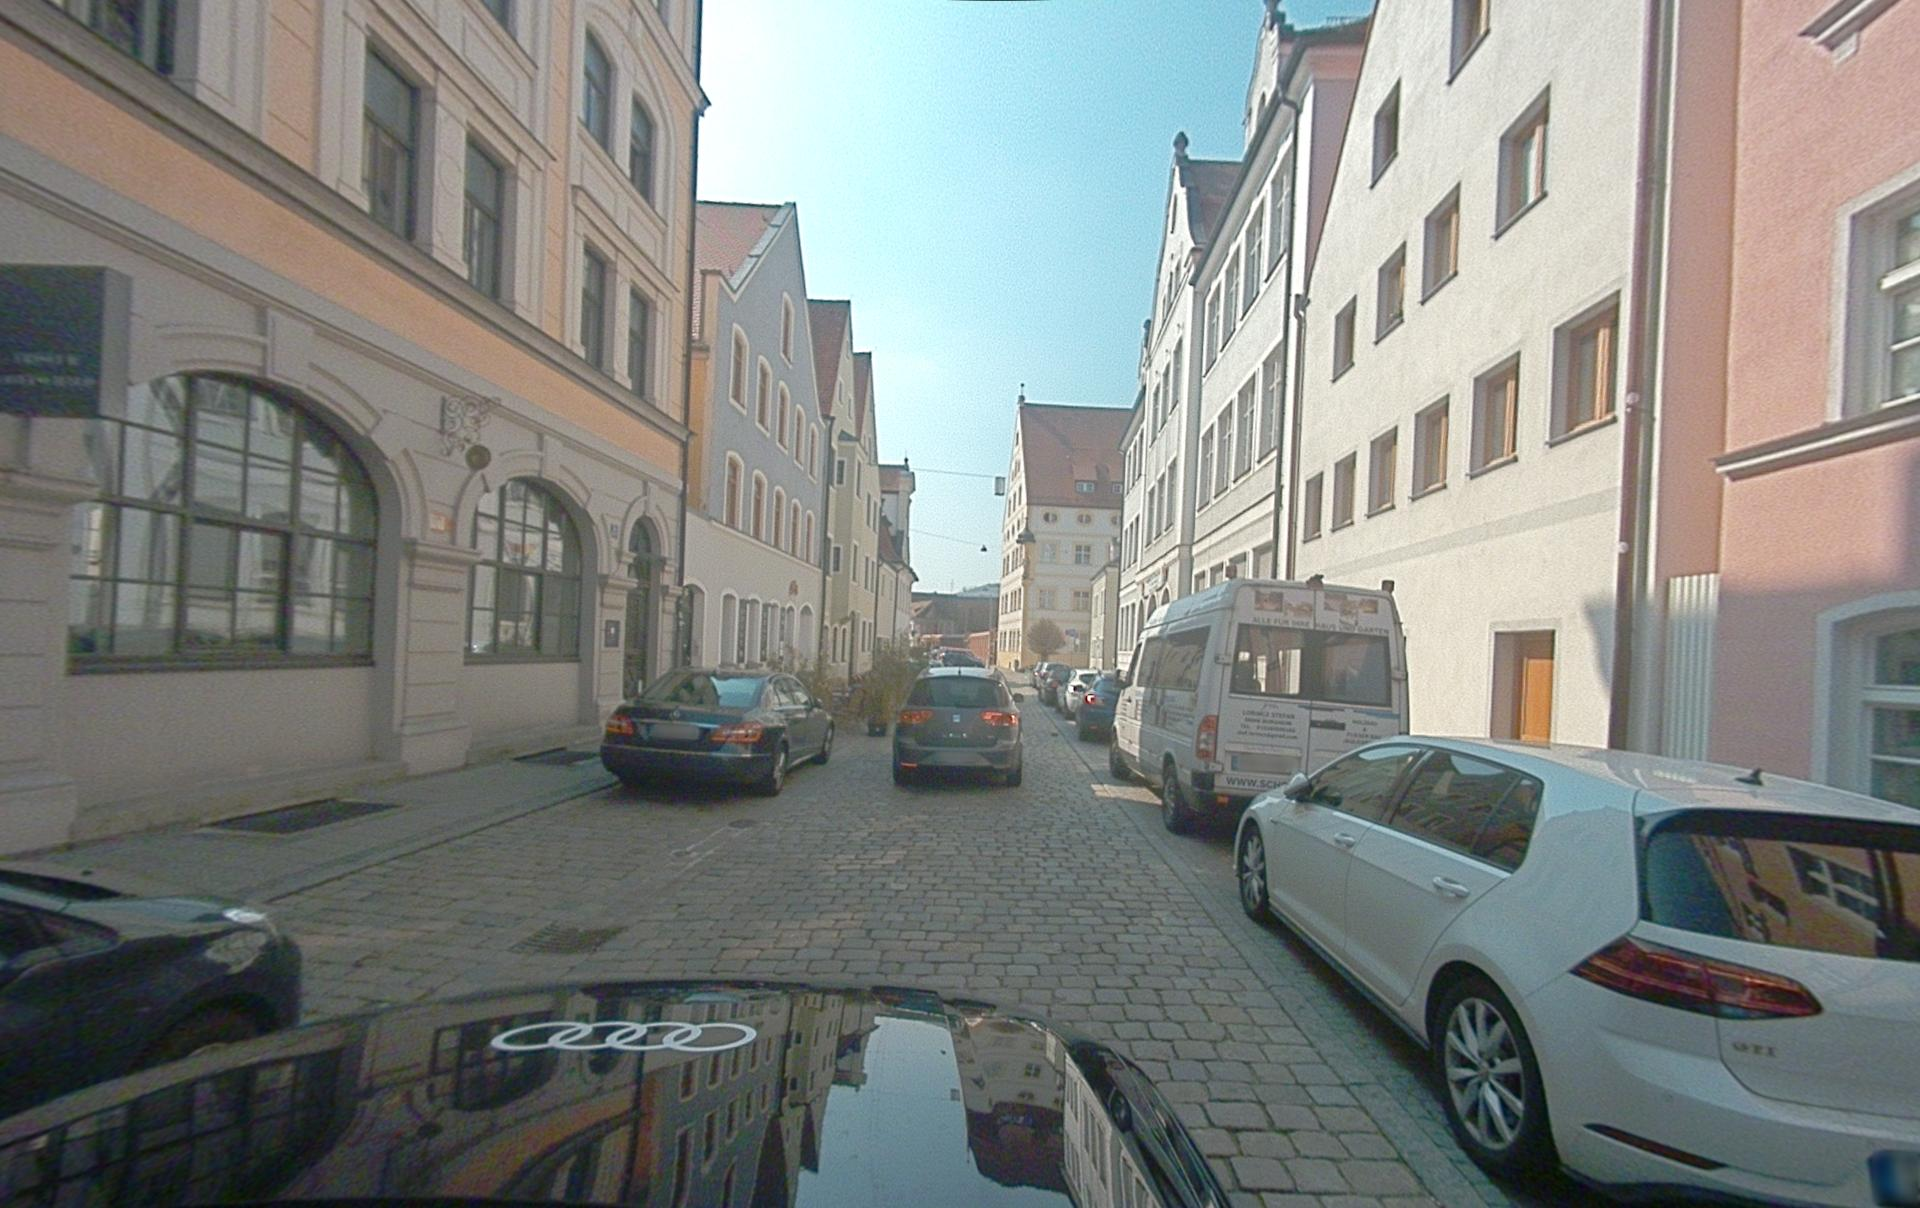car: (1233, 733, 1920, 1207), (1, 977, 1235, 1208), (0, 864, 303, 1122), (600, 665, 835, 796), (892, 667, 1024, 788), (1075, 671, 1123, 742), (1059, 669, 1099, 720)
